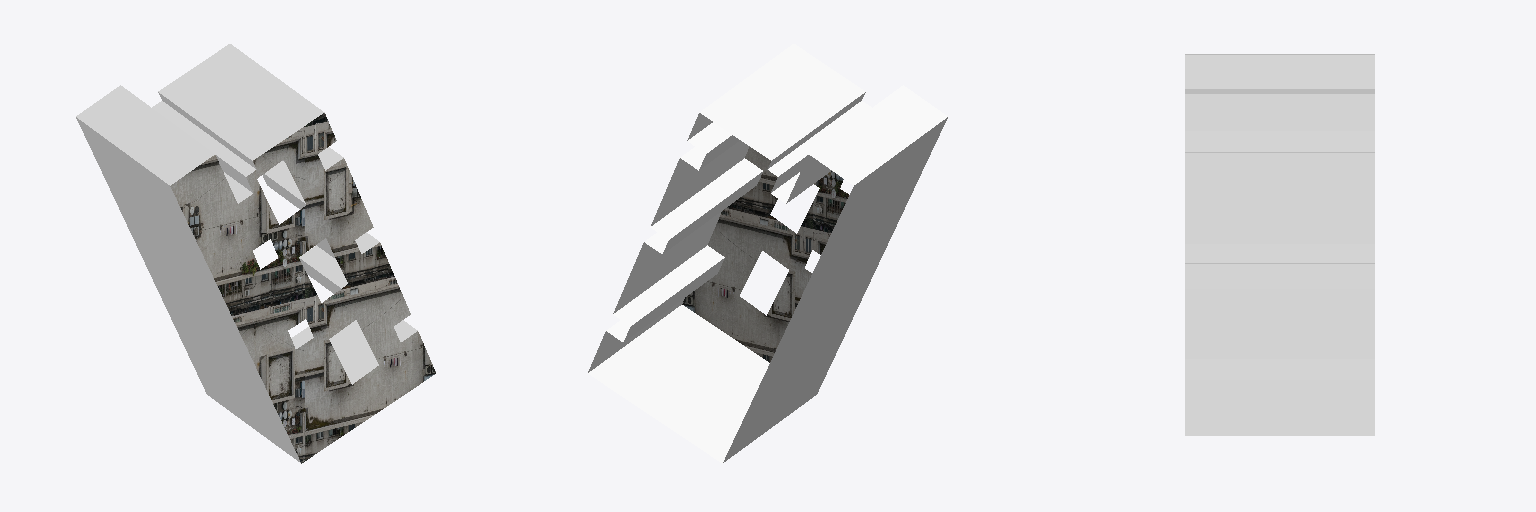
3 views of the same model, side by side, from view 1: azimuth 30°, elevation 25°; view 2: azimuth 150°, elevation 25°; view 3: azimuth 270°, elevation 25° (orthographic).
Visible parts, largest first — view 1: Building; view 2: Building; view 3: Building.
Part boxes in pixels (left/top/right/bottom): Building: left=76, top=44, right=435, bottom=463; Building: left=588, top=44, right=947, bottom=463; Building: left=1185, top=54, right=1374, bottom=435.
Bounding box in the file's own units: 43.87 × 54.42 × 27.
2 materials, 1 textured.